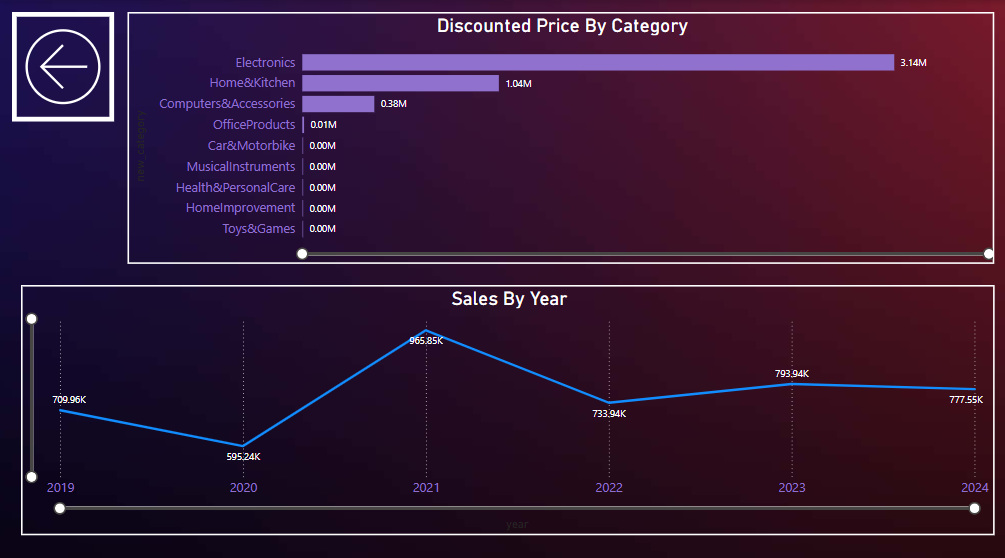

The dashboard page shown, as its layout file describes it:
{"tool":"powerbi","page":{"name":"Page 2","canvas":[1280,720],"ordinal":1},"visuals":[{"type":"barChart","title":"Discounted Price By Category","fields":{"Category":["sales_dataset.new_category"],"Y":["Sum(sales_dataset.discounted_price)"]},"box":[160.6,15.1,1092.3,317.5],"z":0},{"type":"lineChart","title":"Sales By Year","fields":{"Y":["Sum(sales_dataset.discounted_price)"],"Category":["sales_dataset.year"]},"box":[26.5,359.1,1226.5,315.6],"z":1},{"type":"actionButton","box":[15.1,15.1,128.5,138],"z":2}]}

Visuals, with their boxes in screenshot pixels (x1, y1, x2, y2), scaled from the page's 1280x720 canvas onto the 1005x558 screenshot:
"Discounted Price By Category" barChart: 126:12:984:258
"Sales By Year" lineChart: 21:278:984:523
actionButton: 12:12:113:119
